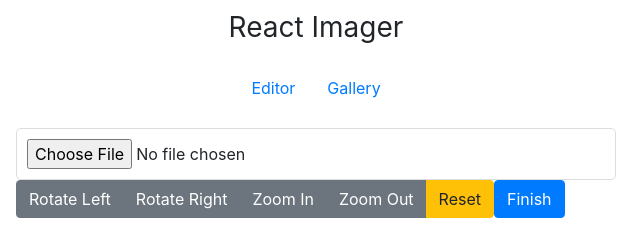
Test: navigate to gallery then to editor
Click the link with test id "galleryNavLink": (354, 88) [327,78,381,98]
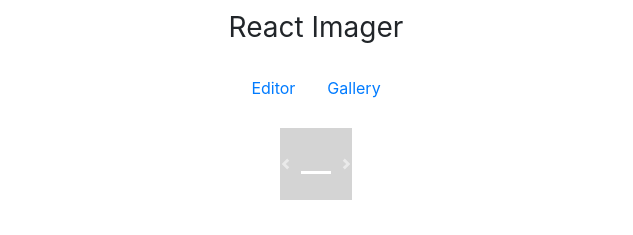
Click the link with test id "editorNavLink": (273, 88) [251,78,295,98]
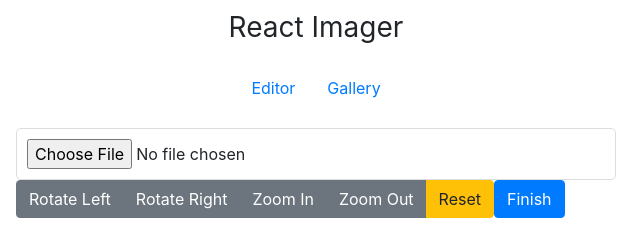
Now the element with test id "editorComponent" is shown, box [16,128,616,218]
